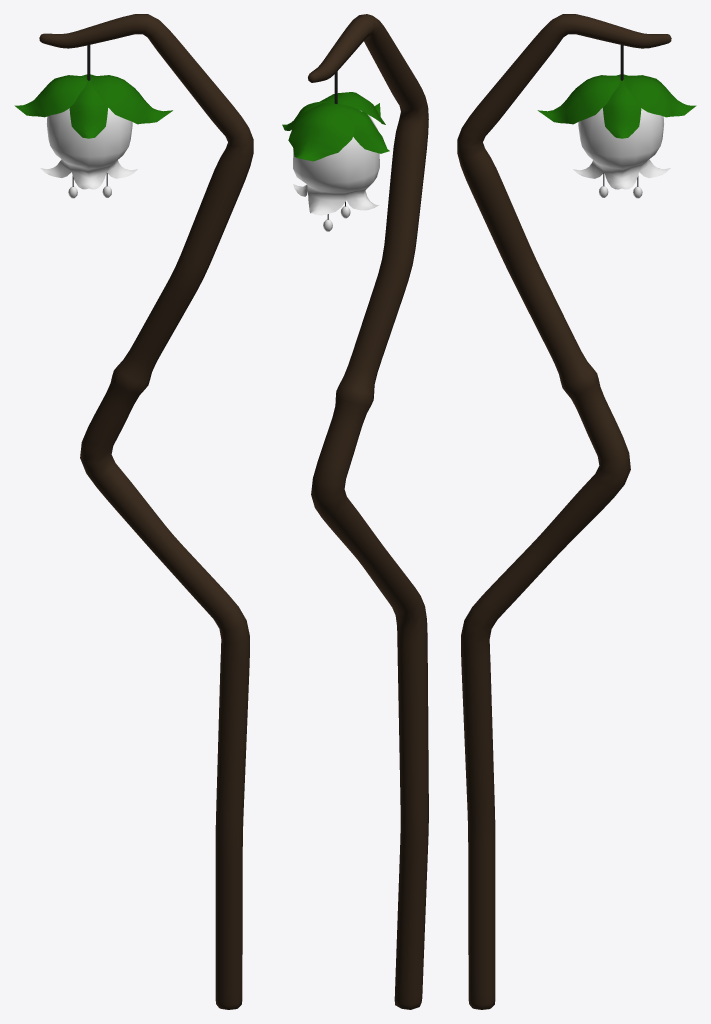
The model's file is Staff.fbx.
3 renders of one model, left to right at view 1: azimuth 90°, elevation 25°; view 2: azimuth 150°, elevation 25°; view 3: azimuth 270°, elevation 25°, orthographic. The views are drawn at different scales.
Visible parts, largest first — view 1: Plane, Sphere.002, Plane.001, Plane.002; view 2: Plane, Sphere.002, Plane.001, Plane.002; view 3: Plane, Sphere.002, Plane.001, Plane.002.
Boxes of the visible parts, x1,y1,x2,y2 form: Plane: [39, 14, 253, 1009]; Sphere.002: [40, 108, 137, 189]; Plane.001: [14, 75, 172, 124]; Plane.002: [69, 74, 107, 138]; Plane: [308, 14, 428, 1009]; Sphere.002: [293, 110, 379, 215]; Plane.001: [288, 92, 385, 161]; Plane.002: [282, 100, 389, 153]; Plane: [457, 14, 671, 1009]; Sphere.002: [573, 108, 670, 189]; Plane.001: [537, 75, 696, 124]; Plane.002: [603, 74, 641, 138].
Bounding box in the file's own units: 47.97 × 434 × 94.92.
